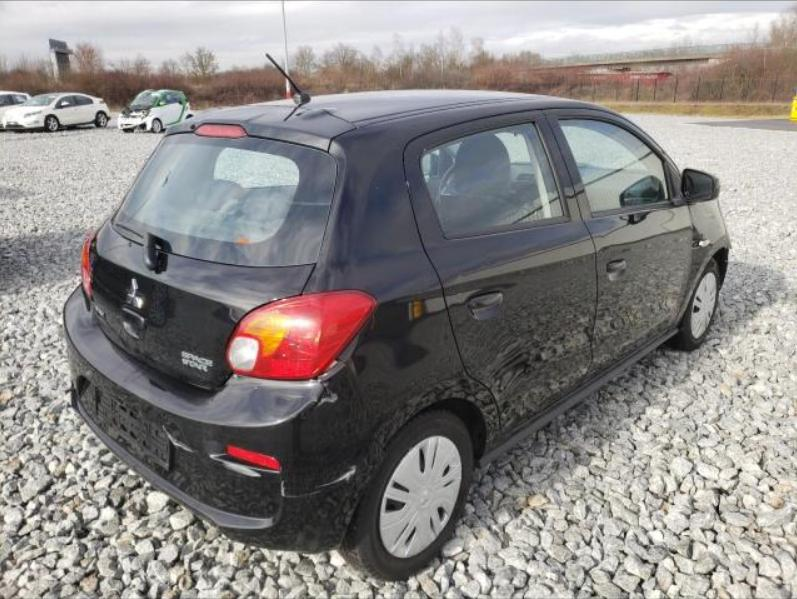Back-bumper: (63, 285, 386, 551)
Back-door: (405, 109, 596, 433)
Back-wheel: (339, 411, 475, 583)
Back-window: (418, 123, 565, 237)
Back-windshield: (112, 133, 335, 265)
Fender: (678, 199, 731, 316)
Front-door: (546, 108, 693, 382)
Front-wheel: (666, 256, 724, 350)
Front-window: (559, 116, 670, 217)
License-plate: (93, 391, 169, 466)
Mirror: (680, 168, 718, 201)
Quarter-panel: (297, 246, 500, 448)
Rocker-panel: (485, 328, 676, 465)
Roof: (251, 88, 546, 126)
Tail-light: (226, 292, 377, 380), (81, 238, 91, 300)
Trunk: (90, 219, 316, 394), (168, 105, 356, 153)
